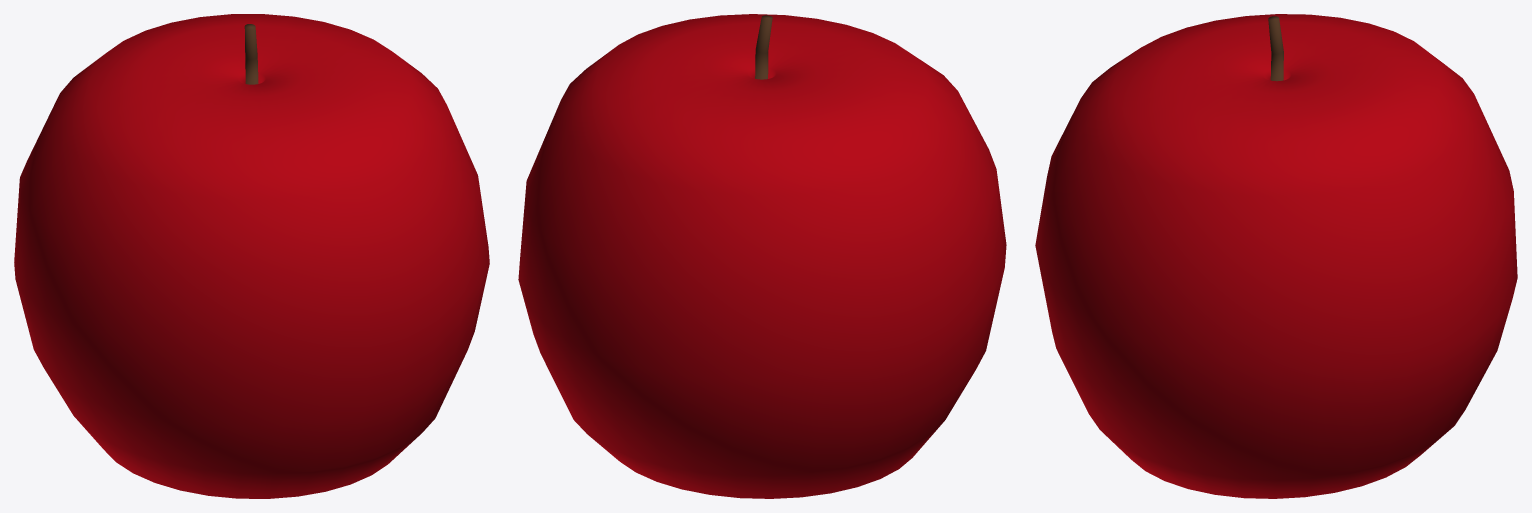
Rendered from apple.fbx.
3 renders of one model, left to right at view 1: azimuth 30°, elevation 25°; view 2: azimuth 150°, elevation 25°; view 3: azimuth 270°, elevation 25°, orthographic. The views are drawn at different scales.
Visible parts, largest first — view 1: Cylinder; view 2: Cylinder; view 3: Cylinder.
Boxes of the visible parts, x1,y1,x2,y2 form: Cylinder: (14,14,489,498); Cylinder: (518,14,1006,498); Cylinder: (1035,14,1517,498).
Bounding box in the file's own units: 218 × 214 × 218.
